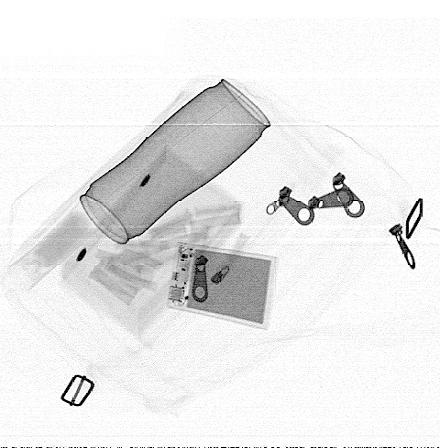Powerbank: (164, 241, 277, 330)
